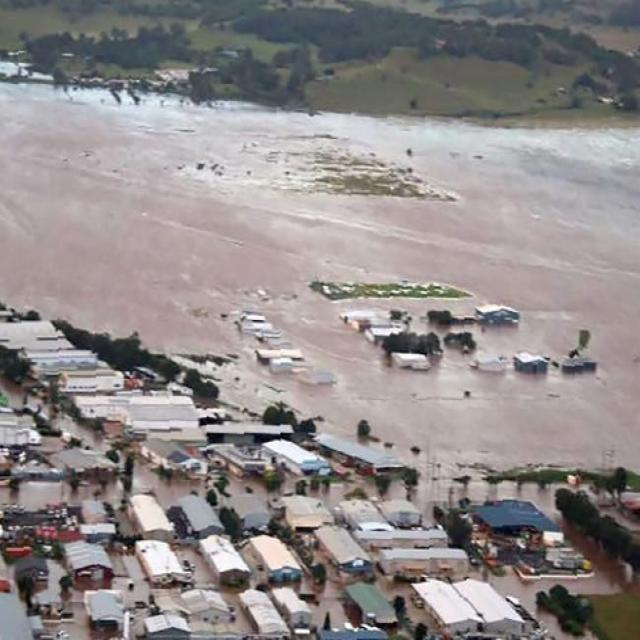flooded_areas: (0, 86, 639, 516)
